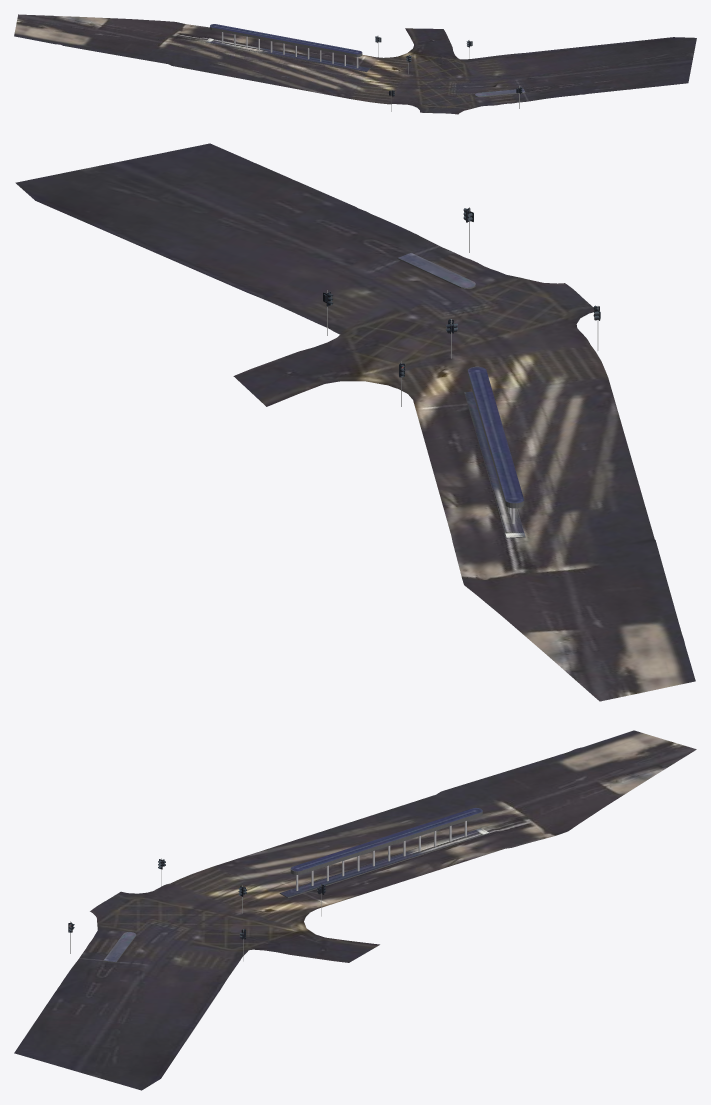
Rendered from ice-house-street.glb.
3 renders of one model, top to bottom at view 1: azimuth 30°, elevation 25°; view 2: azimuth 150°, elevation 25°; view 3: azimuth 270°, elevation 25°, orthographic. The views are drawn at different scales.
Visible parts, largest first — view 1: ice-house-street; view 2: ice-house-street; view 3: ice-house-street.
Boxes of the visible parts, <box> form: ice-house-street: <box>14,14,696,114</box>; ice-house-street: <box>15,143,695,701</box>; ice-house-street: <box>14,730,696,1090</box>.
Size of the model in its own units: 95.45 by 4.57 by 76.78.
4 materials, 4 textured.
